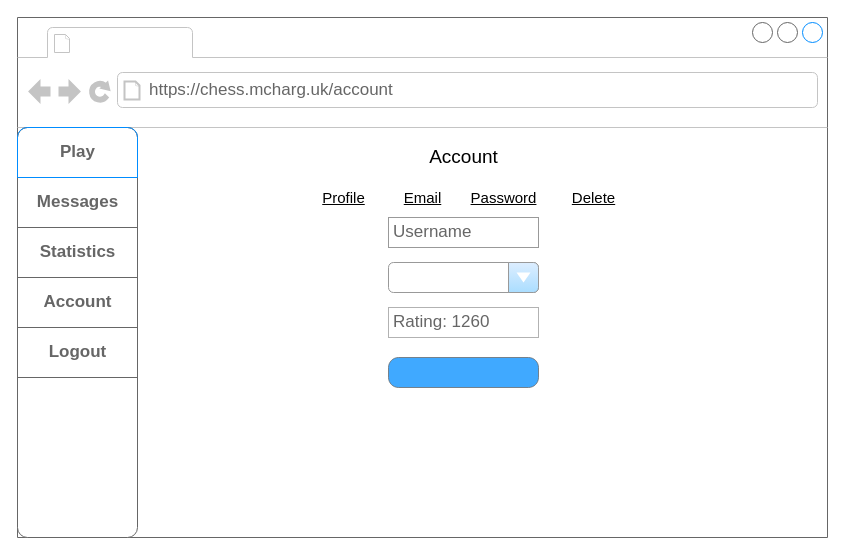
The diagram is 845 pixels wide and 555 high, and some of its shapes have lost their labels. The centre of each missing label's shape, as x and y in pixels:
Rooks Realm: (132,42)
Theme: (463,277)
Update Profile: (463,372)
